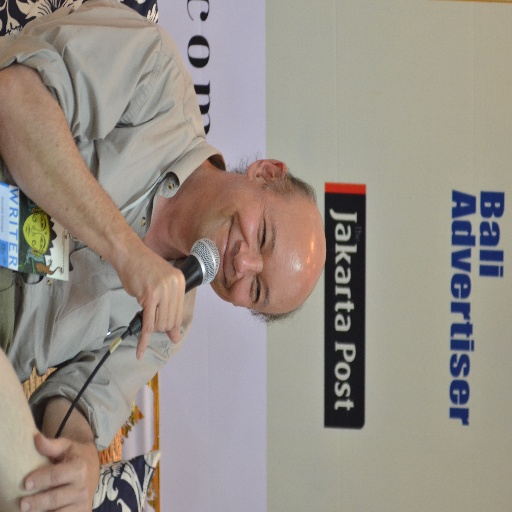hand: (109, 236, 187, 355), (18, 444, 100, 511)
